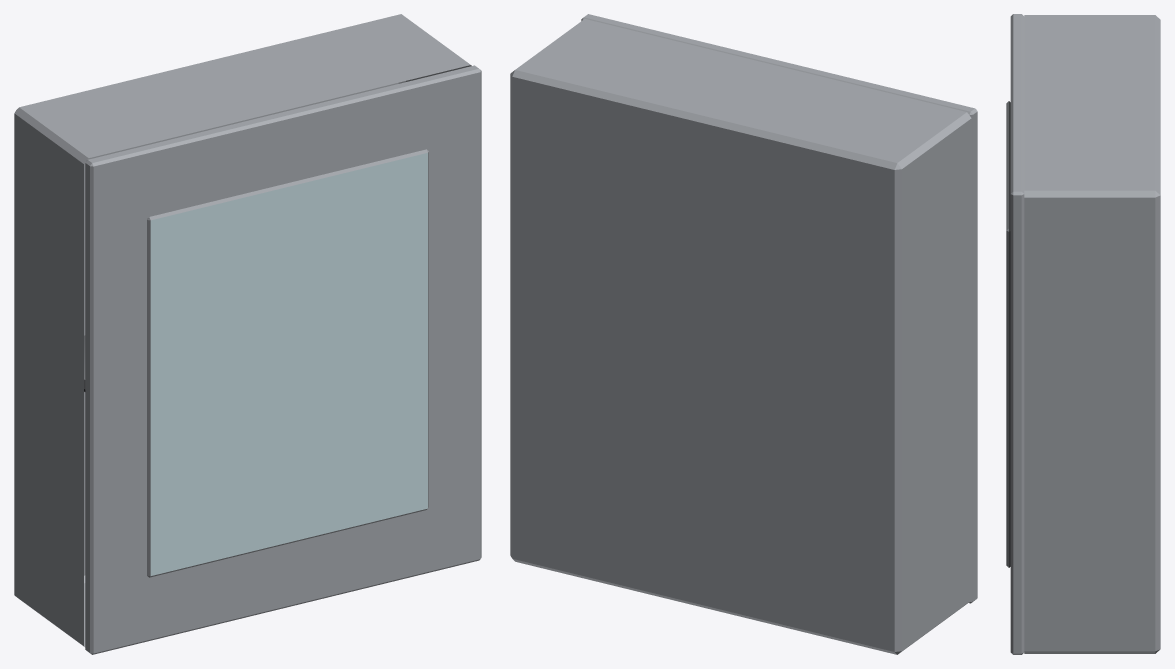
File: medicine_cabinet.glb
The picture shows the model from 3 angles, left to right: view 1: azimuth 30°, elevation 25°; view 2: azimuth 150°, elevation 25°; view 3: azimuth 270°, elevation 25°; orthographic projection. The views are drawn at different scales.
Visible parts, largest first — view 1: medicine_cabinet_lid, medicine_cabinet; view 2: medicine_cabinet, medicine_cabinet_lid; view 3: medicine_cabinet, medicine_cabinet_lid.
Part boxes in pixels (x1=…): medicine_cabinet_lid: x1=85, y1=65, x2=481, y2=654; medicine_cabinet: x1=14, y1=14, x2=471, y2=647; medicine_cabinet: x1=510, y1=19, x2=971, y2=654; medicine_cabinet_lid: x1=581, y1=14, x2=977, y2=603; medicine_cabinet: x1=1024, y1=15, x2=1160, y2=653; medicine_cabinet_lid: x1=1006, y1=14, x2=1024, y2=654.
Bounding box in the file's own units: 0.5 × 0.6 × 0.181.
